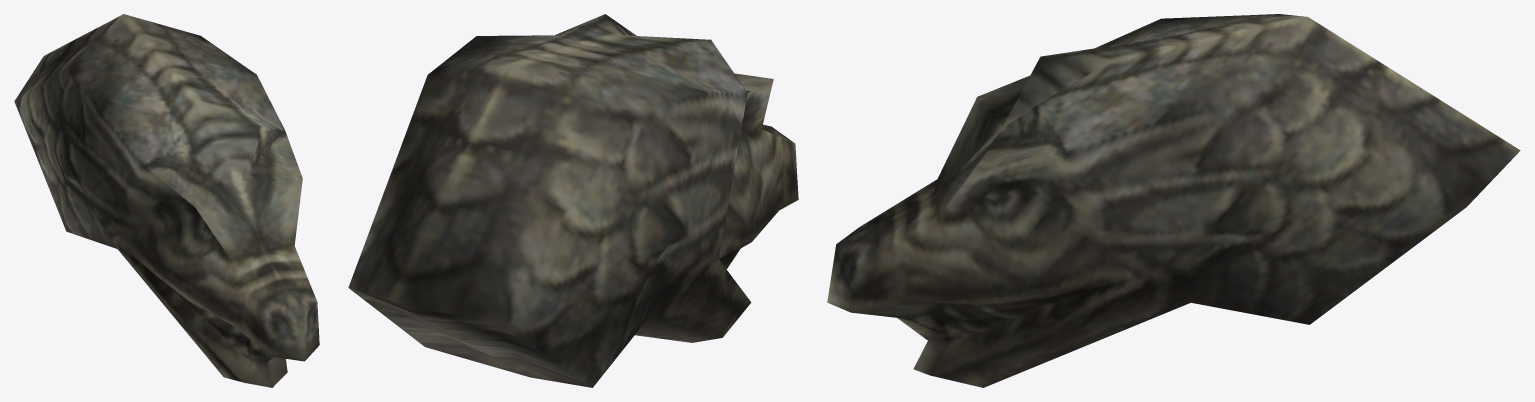
Rendered from HeadWithoutHorns.fbx.
3 renders of one model, left to right at view 1: azimuth 30°, elevation 25°; view 2: azimuth 150°, elevation 25°; view 3: azimuth 270°, elevation 25°, orthographic. The views are drawn at different scales.
Visible parts, largest first — view 1: Statue07_c; view 2: Statue07_c; view 3: Statue07_c.
Boxes of the visible parts, x1,y1,x2,y2 form: Statue07_c: (14,14,319,387); Statue07_c: (348,14,798,387); Statue07_c: (827,14,1520,387).
Size of the model in its own units: 30.14 by 47.71 by 81.05.
